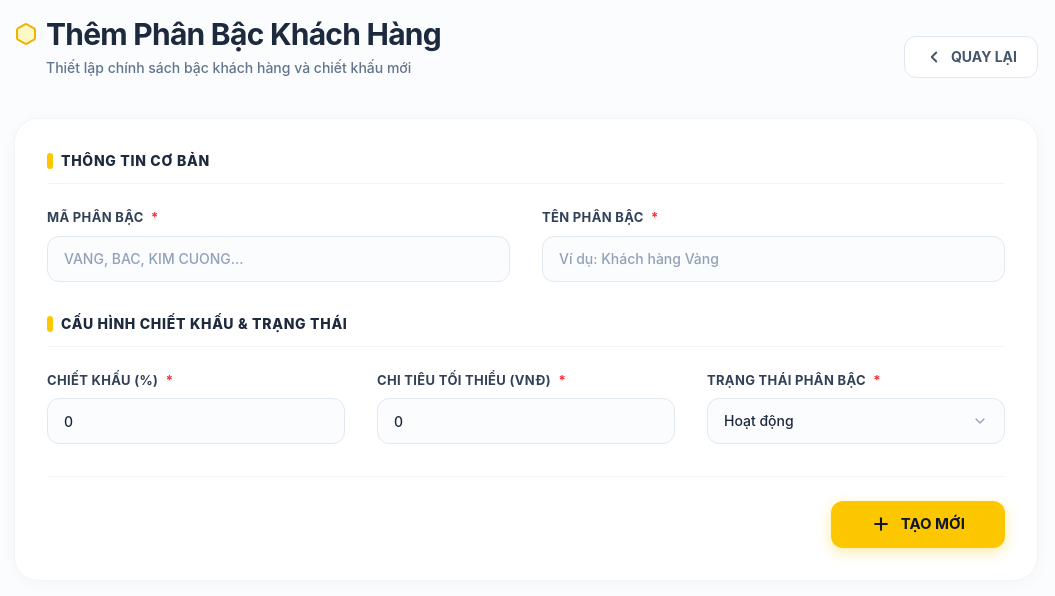
Test: Module 06 - CustomerTierForm Component › TC03 - Báo lỗi trùng lặp mã Code và Tên bậc hạng ngay trên giao diện
Check: the heading "Thêm Phân Bậc Khách Hàng" is shown, box [46,16,441,52]
Type "gold" into the field with placeholder "VANG, BAC, KIM CUONG..." at [278, 258], box [47,236,510,282]
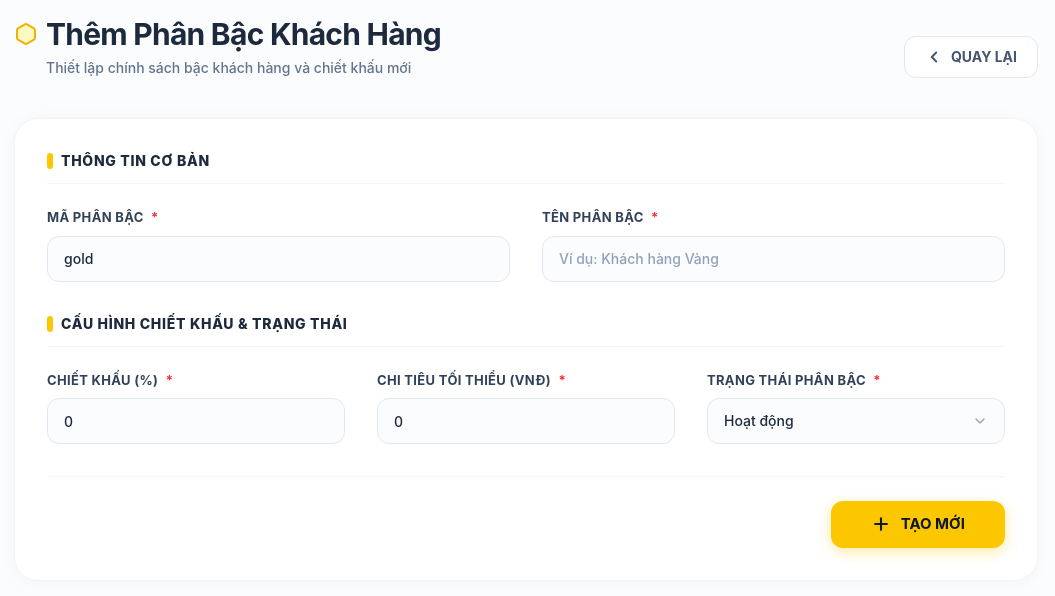
Type "Hạng Vàng" into the field with placeholder "Ví dụ: Khách hàng Vàng" at [774, 258], box [542,236,1005,282]
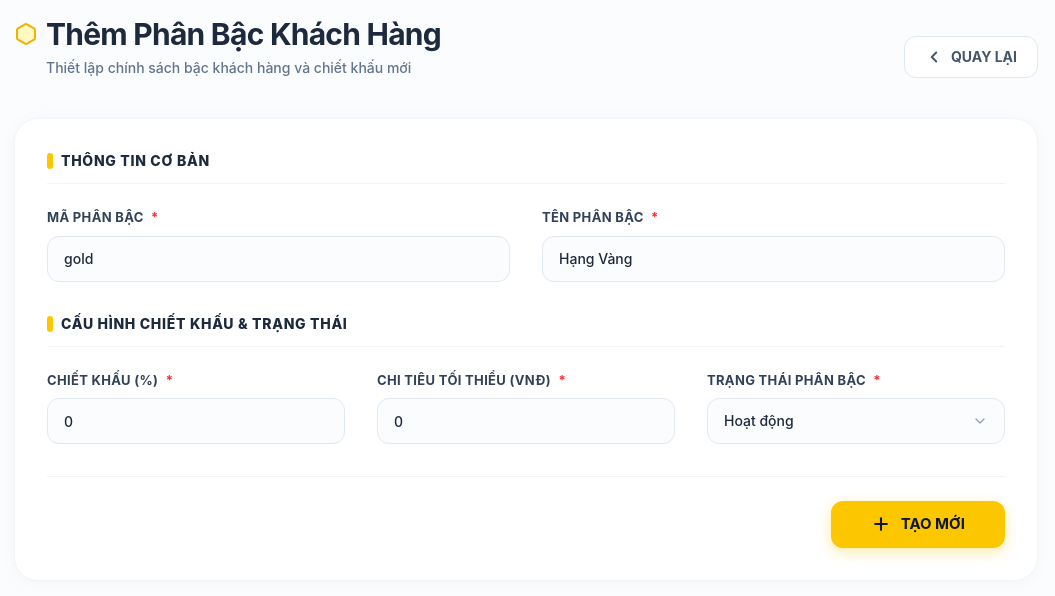
Click the button "TẠO MỚI" at [918, 524], box [831,501,1005,548]
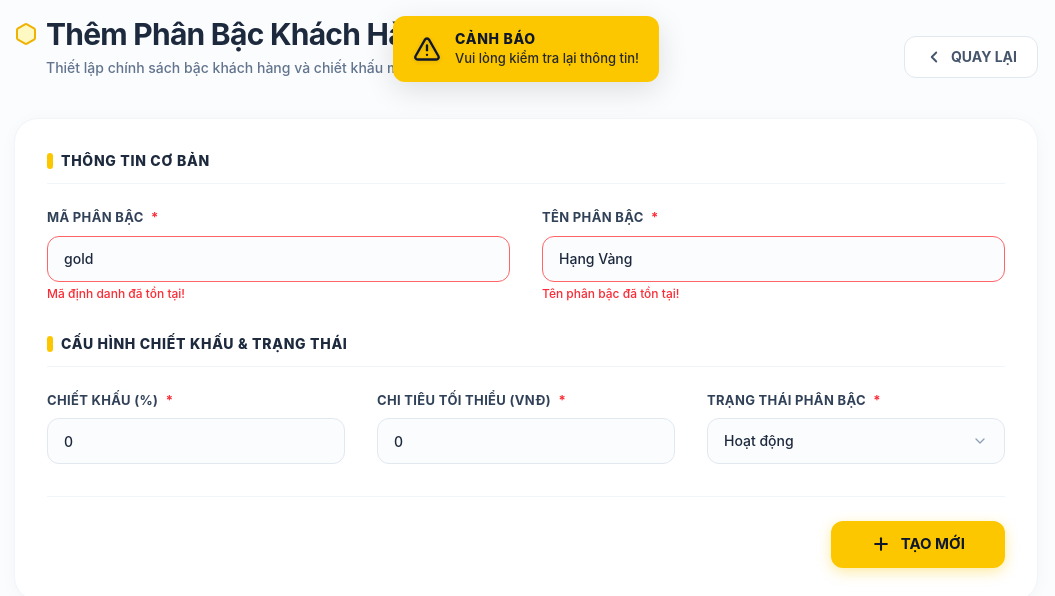
Check: the text "Mã định danh đã tồn tại!" is shown, box [47,286,185,300]
Check: the text "Tên phân bậc đã tồn tại!" is shown, box [542,286,679,300]
